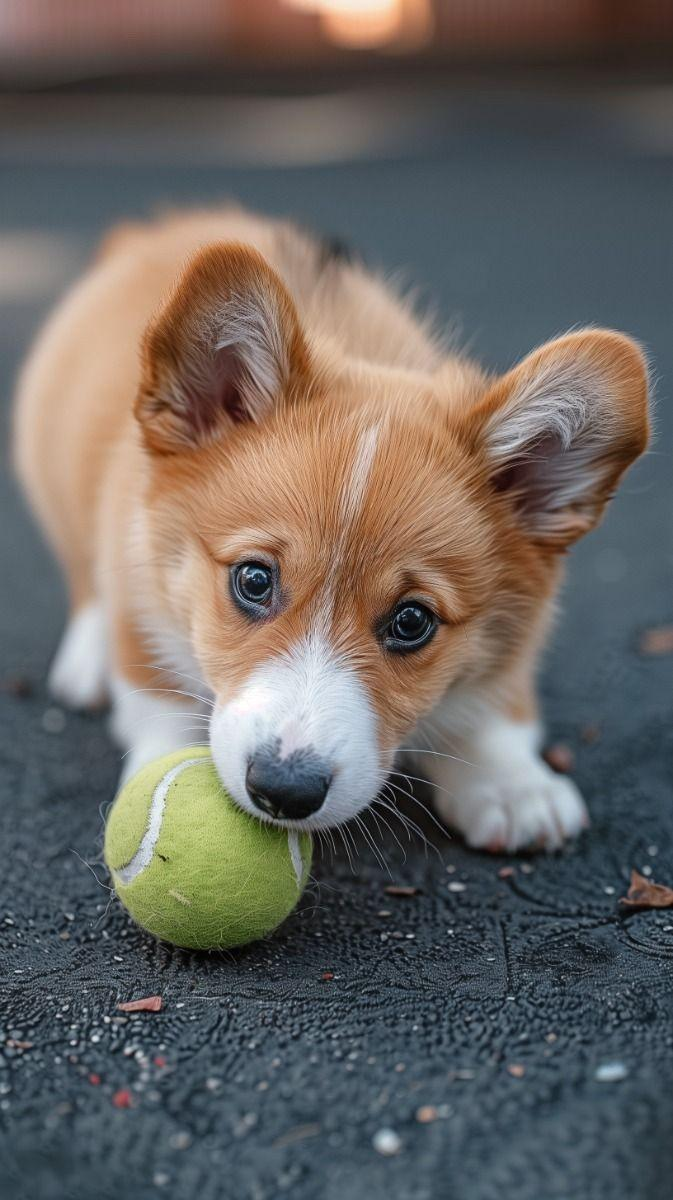non-dog: (102, 744, 314, 952)
puppy-dog: (12, 205, 653, 856)
